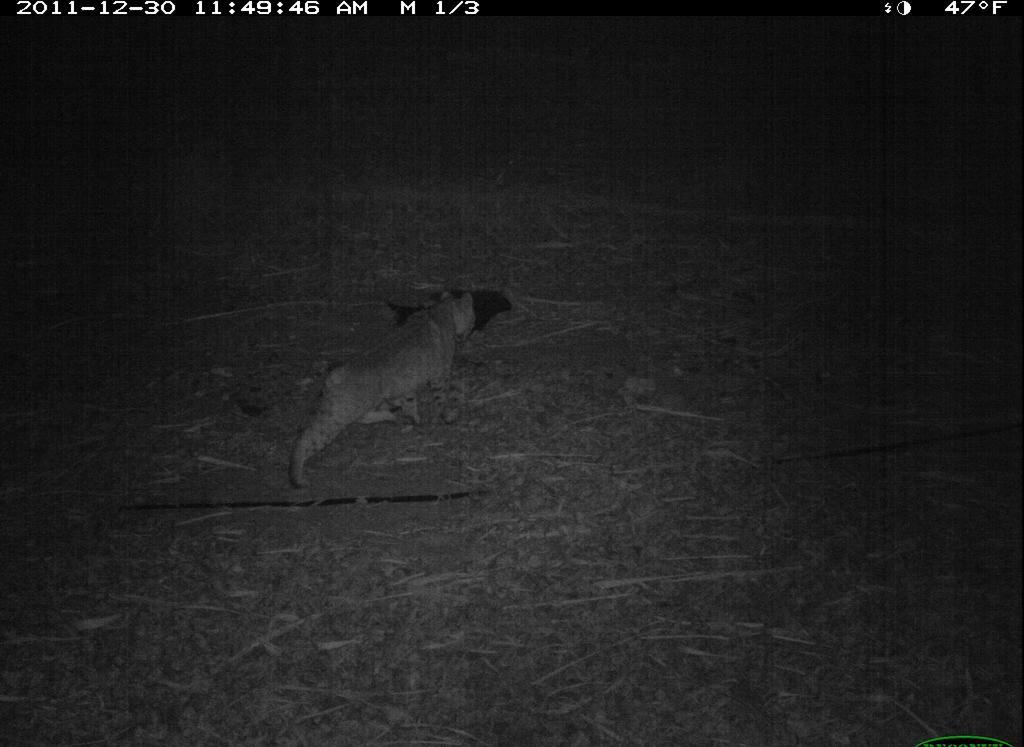bobcat: (287, 287, 495, 491)
